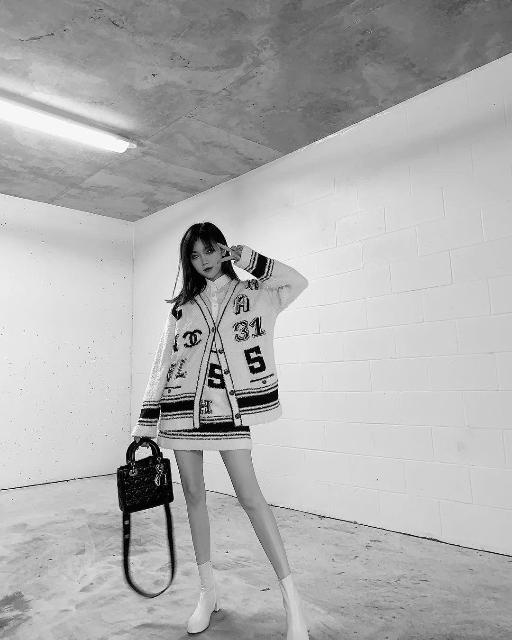Chanel: (176, 325, 212, 351)
